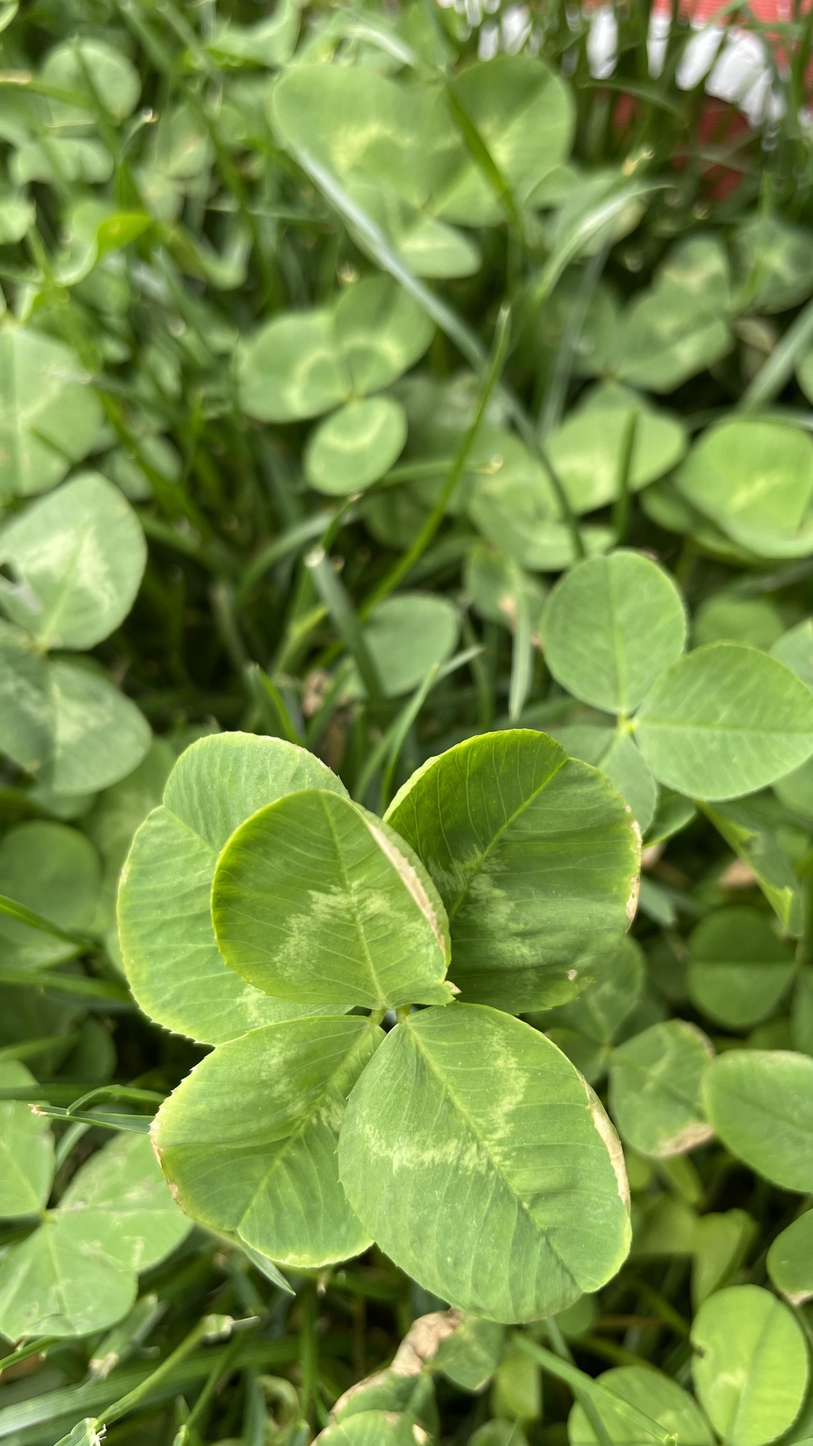4-Leaf-Clovers: (410, 310, 743, 1240)
